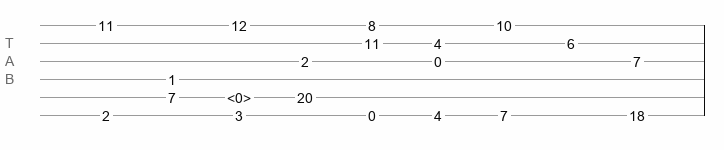0: (368, 108, 376, 118), (434, 54, 442, 64)
1: (168, 72, 176, 82)
10: (496, 18, 512, 28)
11: (98, 18, 114, 28), (364, 36, 380, 46)
12: (231, 18, 247, 28)
18: (629, 108, 645, 118)
2: (102, 108, 110, 118), (301, 54, 309, 64)
20: (297, 90, 313, 100)
3: (235, 108, 243, 118)
4: (434, 108, 442, 118), (434, 36, 442, 46)
6: (567, 36, 575, 46)
7: (168, 90, 176, 100), (500, 108, 508, 118), (633, 54, 641, 64)
8: (368, 18, 376, 28)
harmonic: (227, 90, 251, 100)
